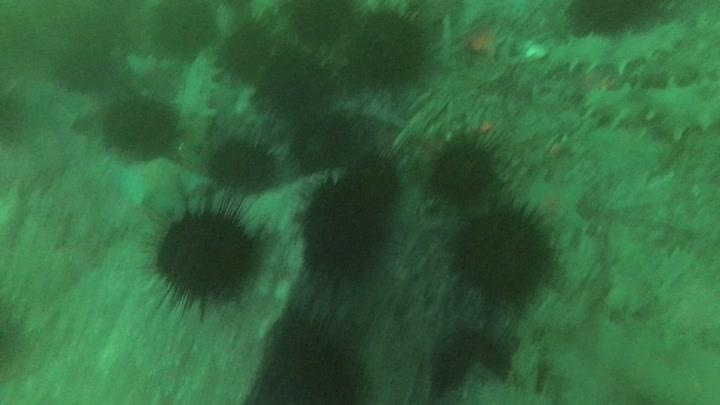echinus: (147, 200, 264, 312), (253, 300, 373, 404), (449, 200, 557, 305), (296, 178, 390, 283), (342, 5, 433, 91), (427, 322, 517, 395), (254, 42, 335, 118), (425, 131, 501, 206), (100, 92, 181, 159), (286, 108, 366, 175), (204, 133, 281, 195), (339, 148, 405, 213), (564, 1, 672, 39), (150, 1, 219, 59), (217, 18, 279, 82), (52, 40, 119, 93), (285, 1, 358, 46), (1, 88, 31, 148)
holothurian: (577, 75, 719, 142), (547, 20, 694, 80), (173, 45, 224, 152)
starfish: (112, 155, 208, 217), (521, 172, 592, 241)
